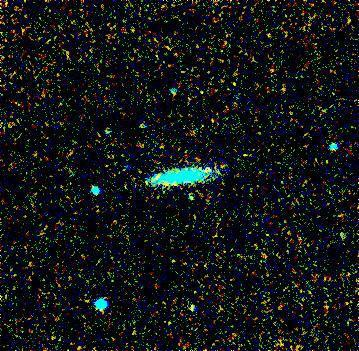star: (193, 152, 223, 182)
